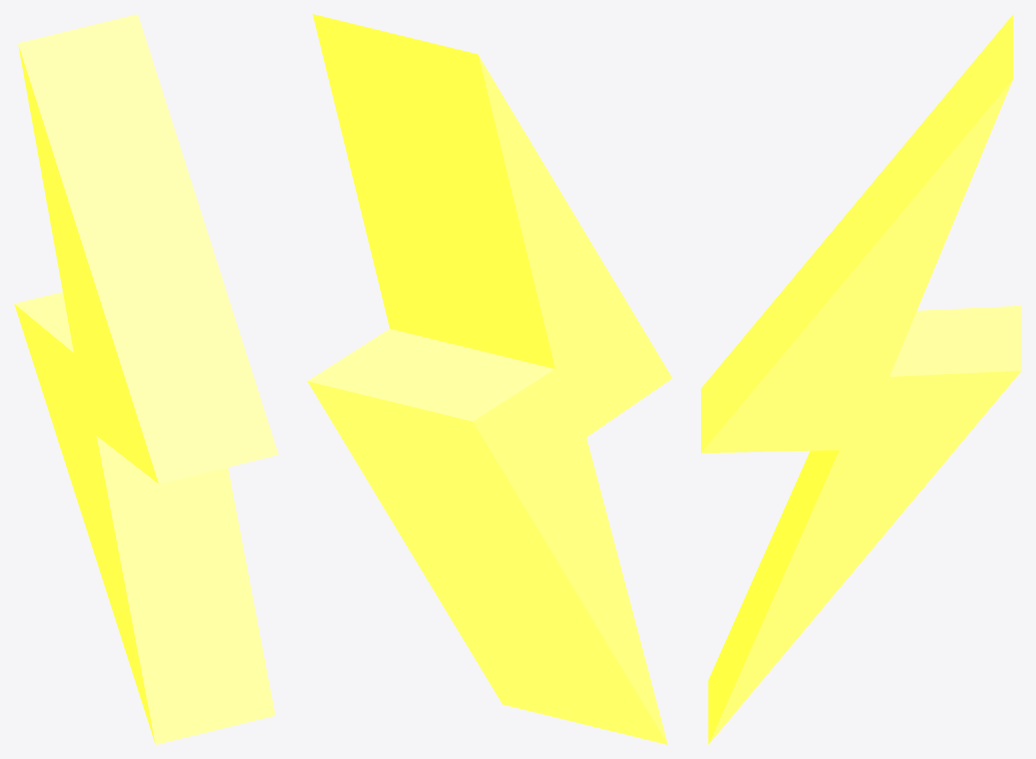
The model's file is energy.fbx.
The picture shows the model from 3 angles, left to right: view 1: azimuth 30°, elevation 25°; view 2: azimuth 150°, elevation 25°; view 3: azimuth 270°, elevation 25°; orthographic projection. The views are drawn at different scales.
Visible parts, largest first — view 1: Energy; view 2: Energy; view 3: Energy.
Boxes of the visible parts, x1,y1,x2,y2 form: Energy: [14, 14, 278, 744]; Energy: [307, 14, 672, 744]; Energy: [701, 14, 1021, 744].
Bounding box in the file's own units: 50 × 240 × 105.
